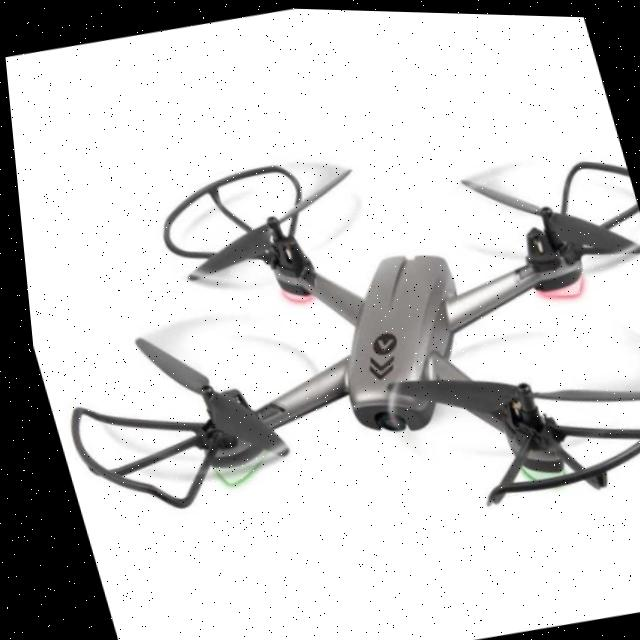drones: (6, 79, 640, 617)
